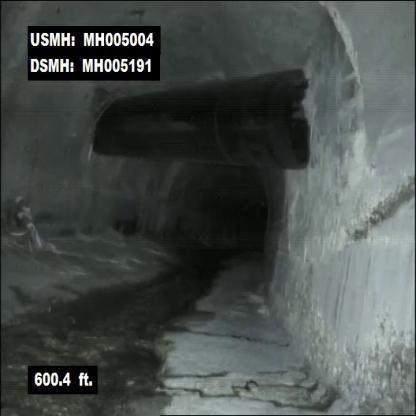Crack: (177, 337, 328, 414), (345, 158, 415, 245)
Utility intrusion: (87, 65, 314, 174)
